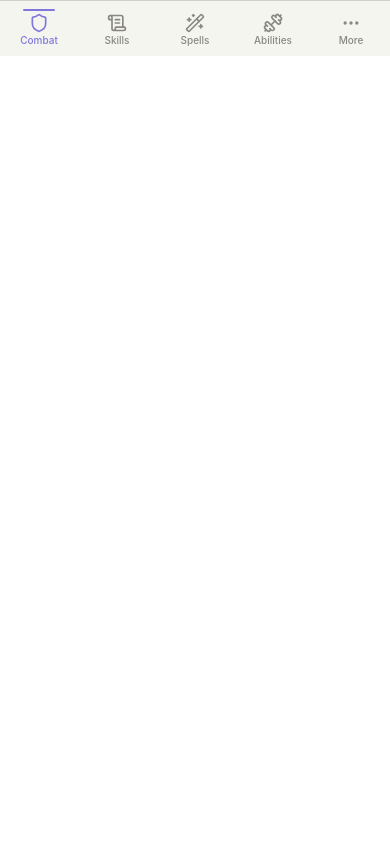
Test case: MobileBottomBar › closes sheet on close button click
Click the tab with aria-label "More sections".
click(351, 28)  # box 312,8 -> 389,48
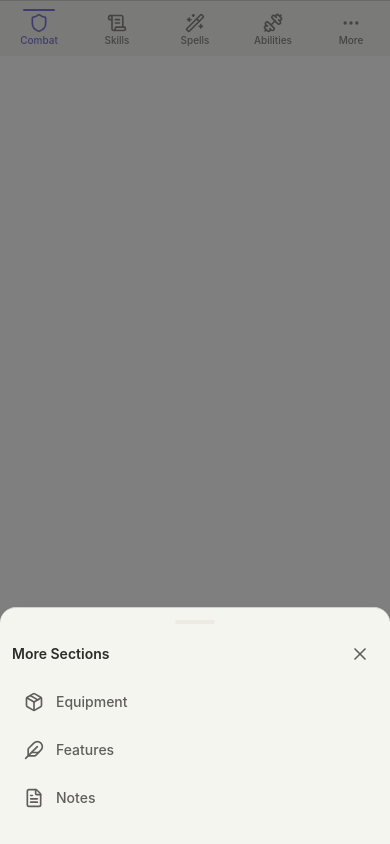
Now the button "Equipment" is shown, box 12,680 -> 378,724
Click the button named "Close".
click(360, 654)  # box 342,636 -> 378,672
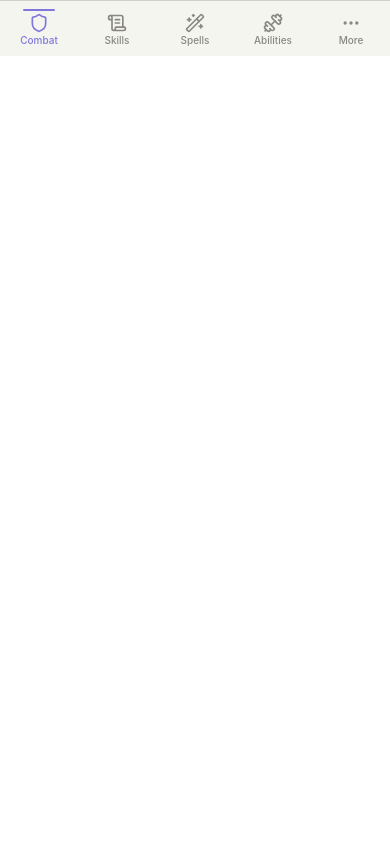
Now the button "Equipment" is gone
